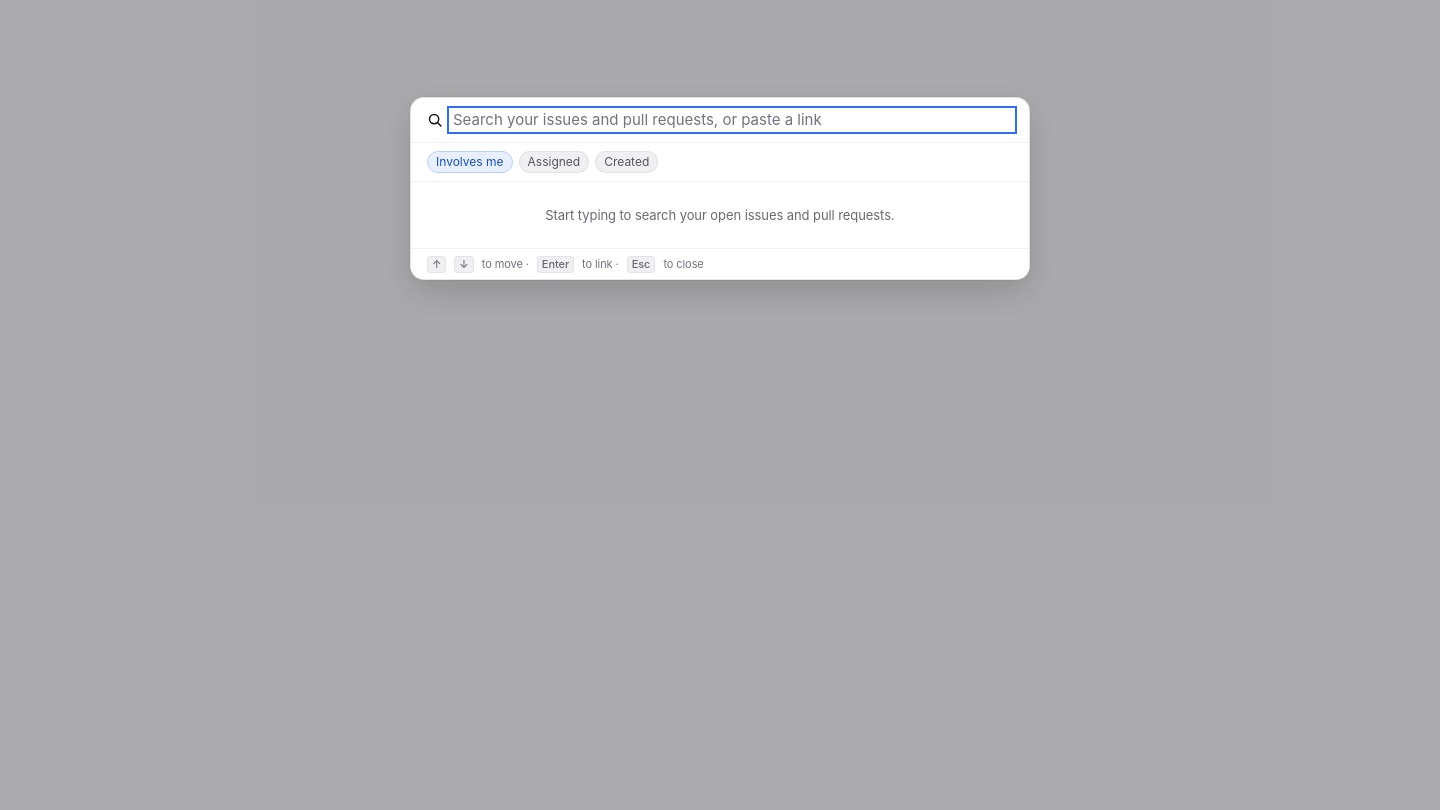
it: GithubPickerOverlay › says so when nothing matched
The image size is (1440, 810).
Expected: the dialog with test id "gh-picker" is shown, x1=410 y1=97 x2=1030 y2=280
In the field named "Search GitHub": (732, 120) x1=451 y1=110 x2=1013 y2=130, type "zzz"
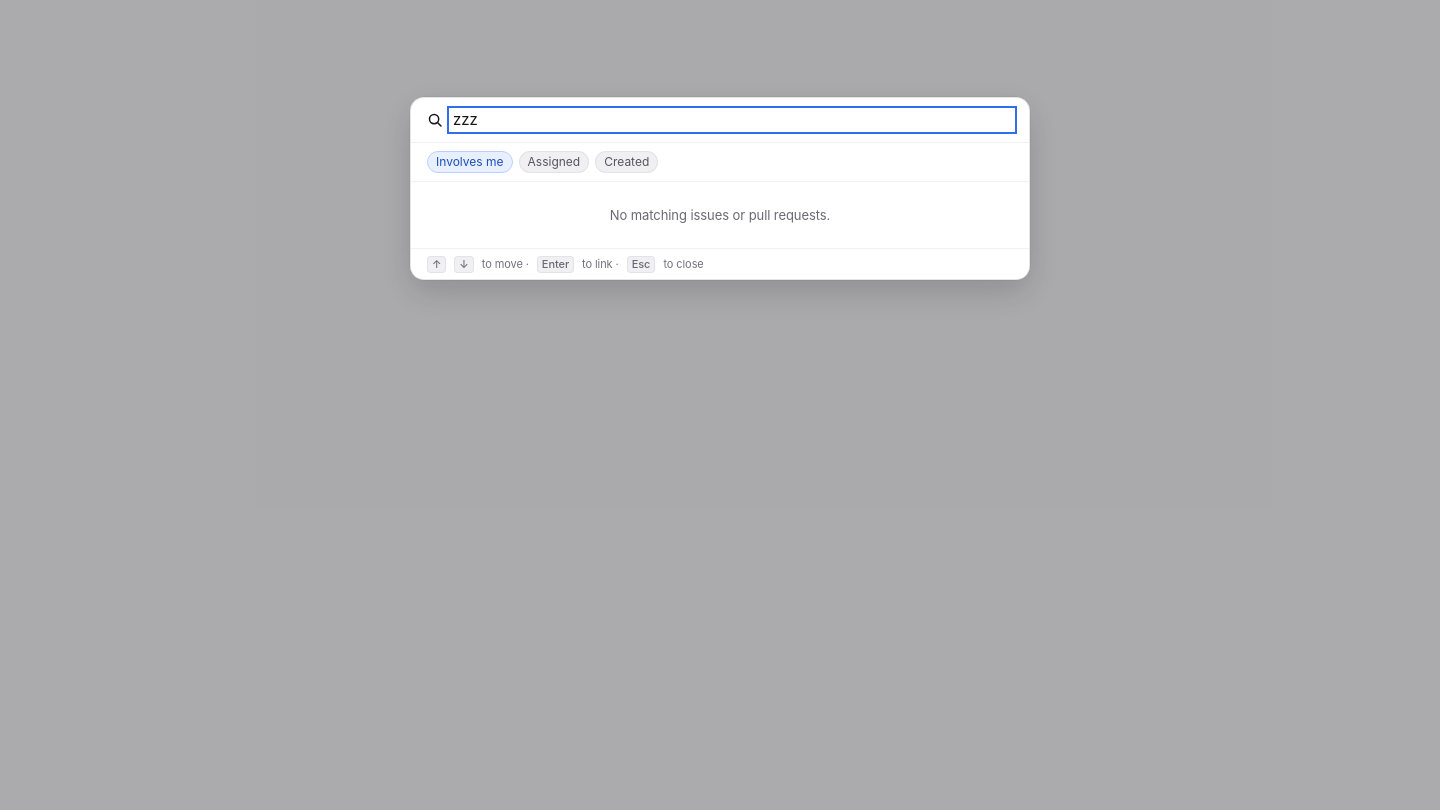
Expected: the text "No matching issues or pull requests." is shown, x1=610 y1=207 x2=830 y2=223
